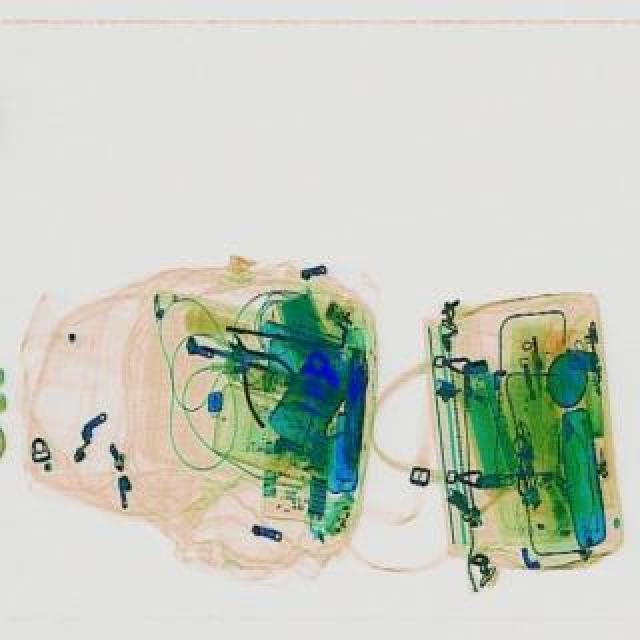wrench: (202, 318, 310, 426)
